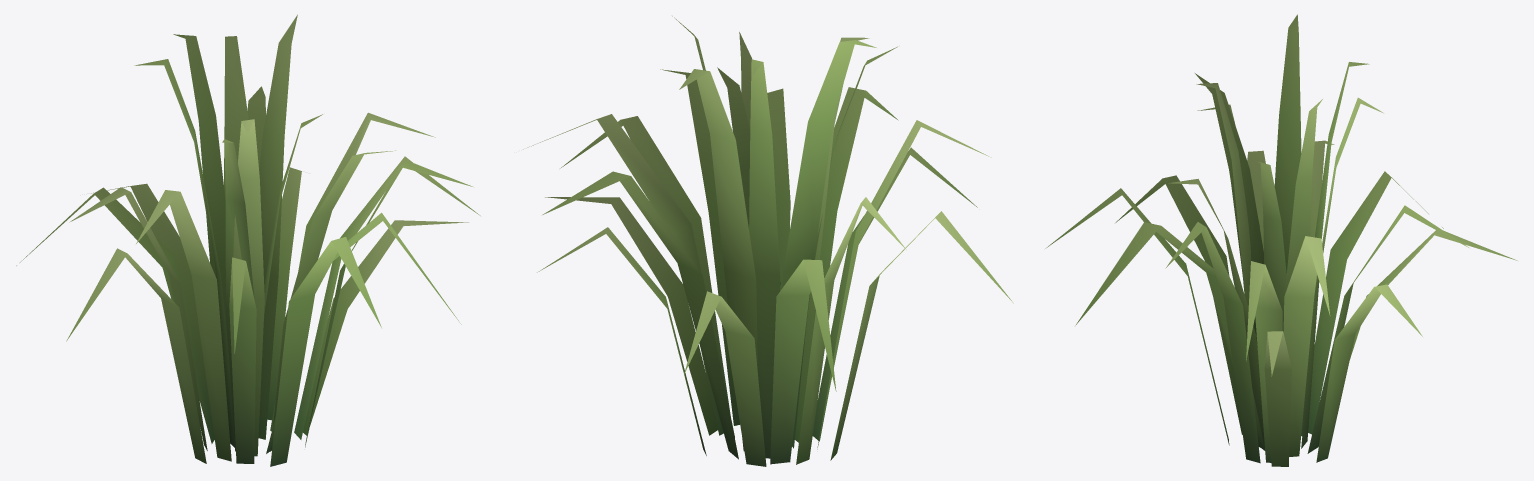
The model's file is deco-grass-v1.glb.
3 renders of one model, left to right at view 1: azimuth 30°, elevation 25°; view 2: azimuth 150°, elevation 25°; view 3: azimuth 270°, elevation 25°, orthographic. The views are drawn at different scales.
Parts seen in each view (by area): view 1: 0_grass; view 2: 0_grass; view 3: 0_grass.
Boxes of the visible parts, x1,y1,x2,y2 form: 0_grass: (16, 14, 480, 466); 0_grass: (523, 16, 1013, 466); 0_grass: (1045, 14, 1517, 466).
Bounding box in the file's own units: 0.7219 × 0.6574 × 0.7496.
